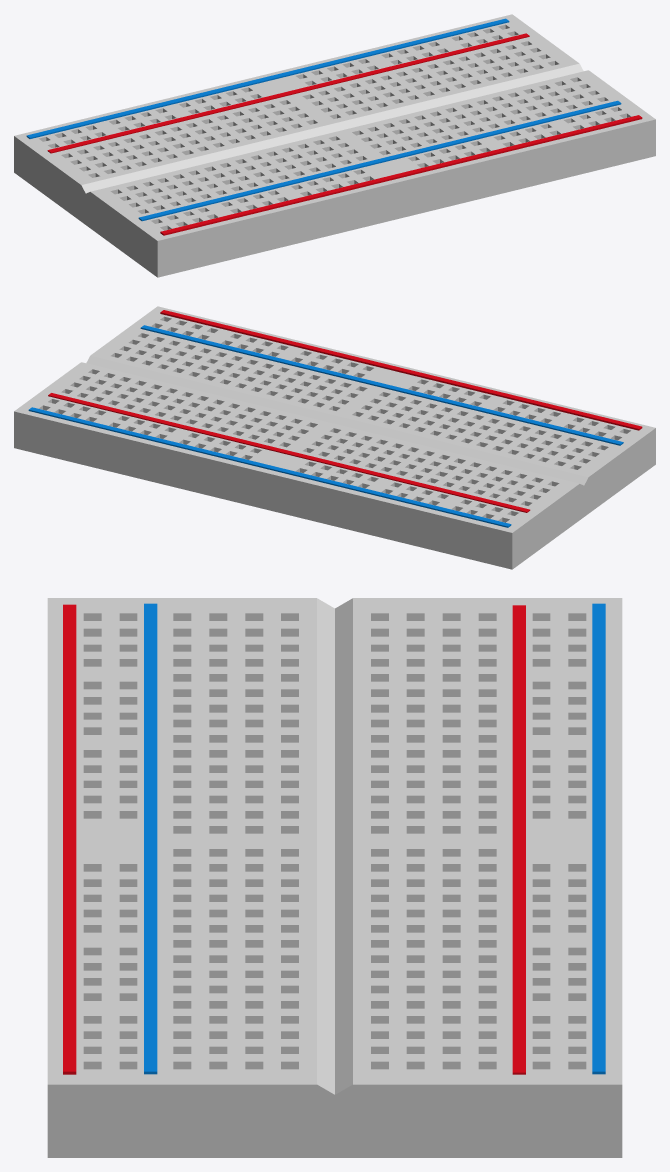
File: Protoboard.fbx
3 renders of one model, top to bottom at view 1: azimuth 30°, elevation 25°; view 2: azimuth 150°, elevation 25°; view 3: azimuth 270°, elevation 25°, orthographic. The views are drawn at different scales.
Parts seen in each view (by area): view 1: Cubo, Cubo.001, Cubo.003, Cubo.004, Cubo.002; view 2: Cubo, Cubo.001, Cubo.003, Cubo.004, Cubo.002; view 3: Cubo, Cubo.003, Cubo.004, Cubo.001, Cubo.002.
Boxes of the visible parts, x1=… form: Cubo: x1=14, y1=14, x2=655, y2=277; Cubo.001: x1=160, y1=115, x2=642, y2=235; Cubo.003: x1=26, y1=18, x2=509, y2=138; Cubo.004: x1=138, y1=100, x2=621, y2=221; Cubo.002: x1=47, y1=33, x2=529, y2=153; Cubo: x1=14, y1=306, x2=655, y2=569; Cubo.001: x1=160, y1=310, x2=642, y2=430; Cubo.003: x1=28, y1=407, x2=511, y2=527; Cubo.004: x1=140, y1=325, x2=623, y2=445; Cubo.002: x1=48, y1=393, x2=530, y2=512; Cubo: x1=47, y1=598, x2=622, y2=1157; Cubo.003: x1=592, y1=603, x2=605, y2=1074; Cubo.004: x1=144, y1=603, x2=157, y2=1074; Cubo.001: x1=63, y1=604, x2=76, y2=1074; Cubo.002: x1=512, y1=605, x2=525, y2=1074.
Size of the model in its own units: 785 by 57.66 by 392.
